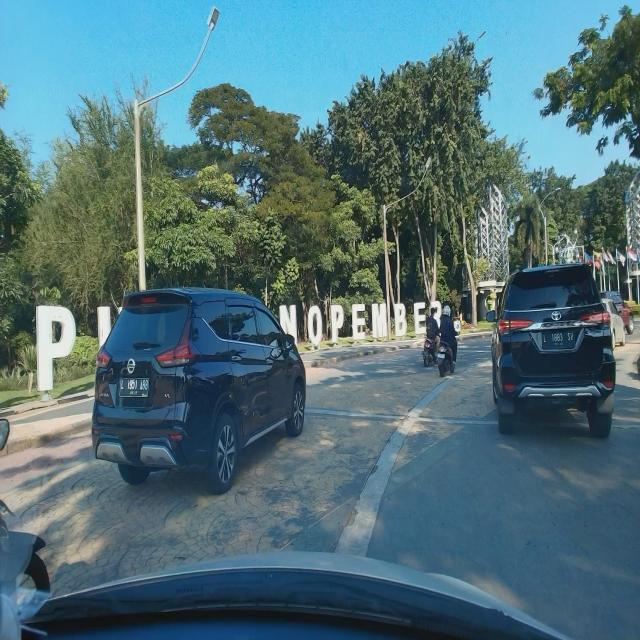car: (85, 278, 309, 497), (486, 258, 618, 442)
license-plate: (119, 377, 150, 399), (542, 330, 576, 350)
